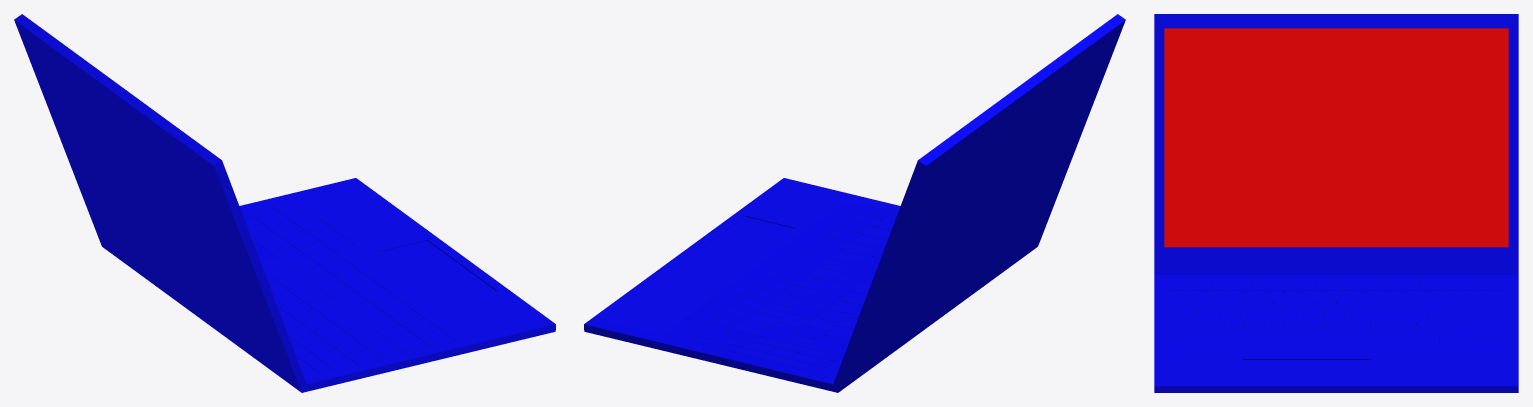
File: Laptop.fbx
3 renders of one model, left to right at view 1: azimuth 30°, elevation 25°; view 2: azimuth 150°, elevation 25°; view 3: azimuth 270°, elevation 25°, orthographic. The views are drawn at different scales.
Visible parts, largest first — view 1: Cube; view 2: Cube; view 3: Cube.
Part boxes in pixels (x1=…): Cube: x1=14, y1=14, x2=555, y2=392; Cube: x1=584, y1=14, x2=1125, y2=392; Cube: x1=1154, y1=14, x2=1518, y2=392.
Bounding box in the file's own units: 60.85 × 60.11 × 42.45.
